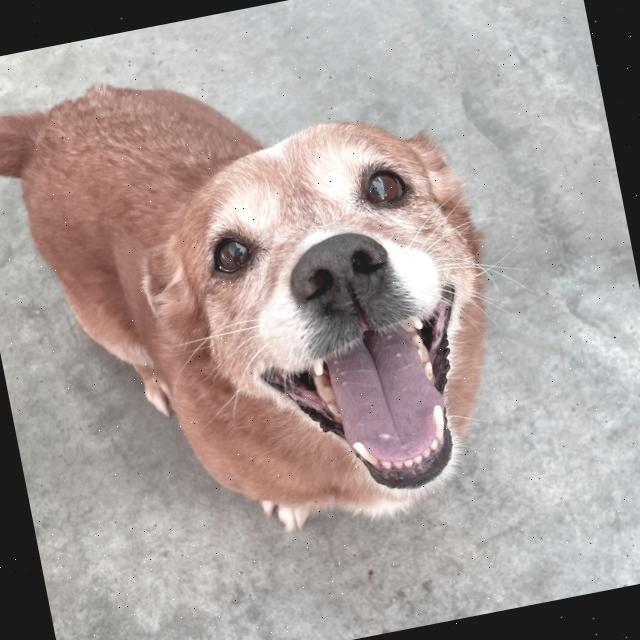corgi_dog: (114, 89, 548, 572)
